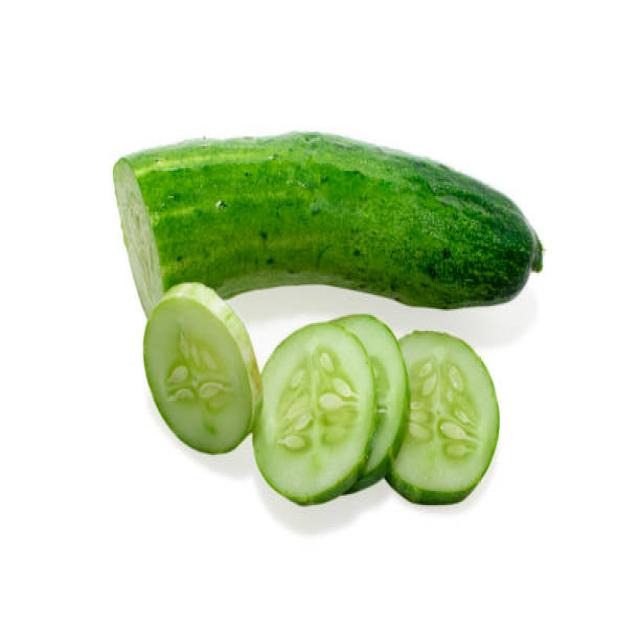cucumber: (114, 126, 533, 315)
